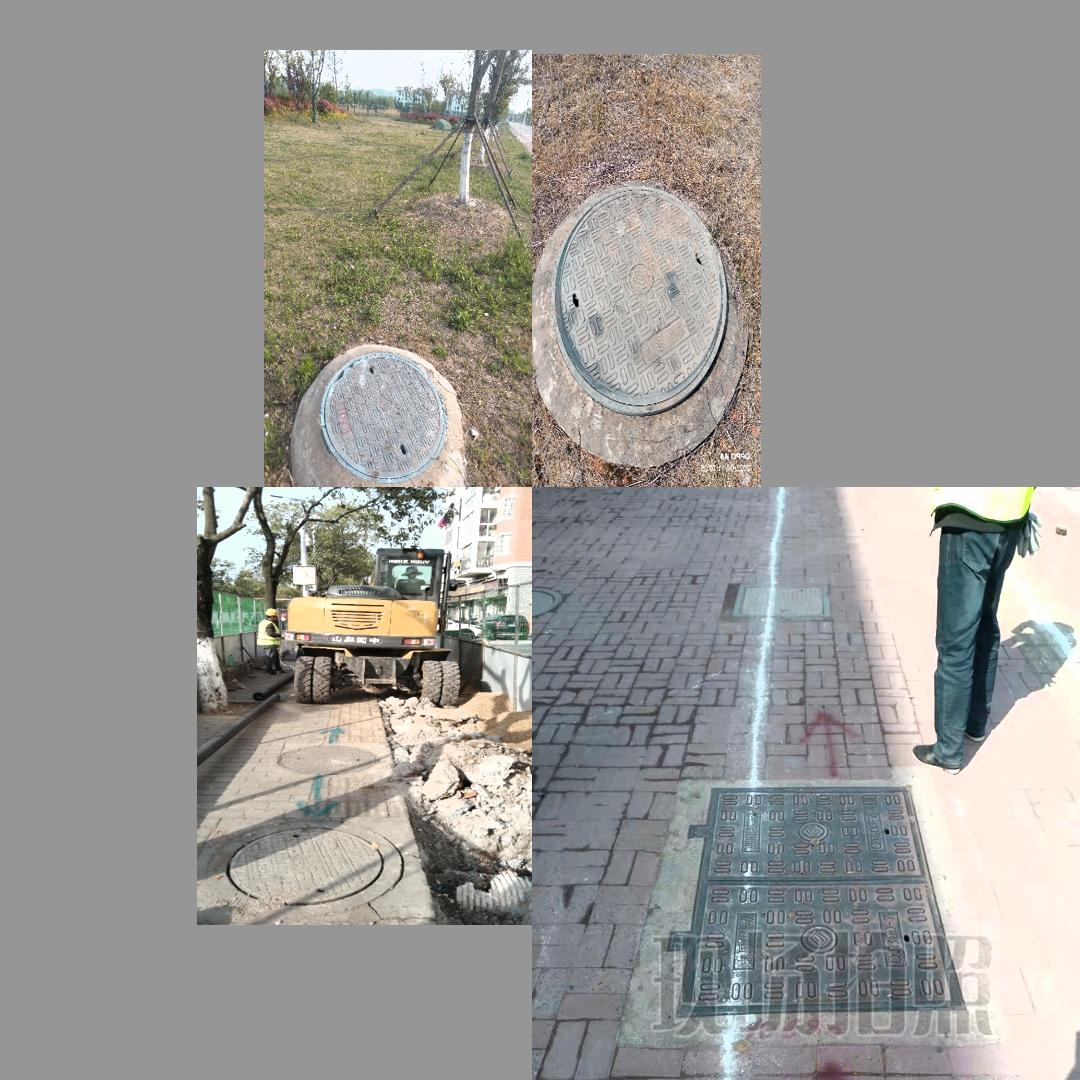good: (665, 780, 970, 1015), (550, 186, 728, 416), (205, 819, 402, 916), (318, 350, 446, 487), (730, 579, 831, 618), (274, 743, 375, 775)
